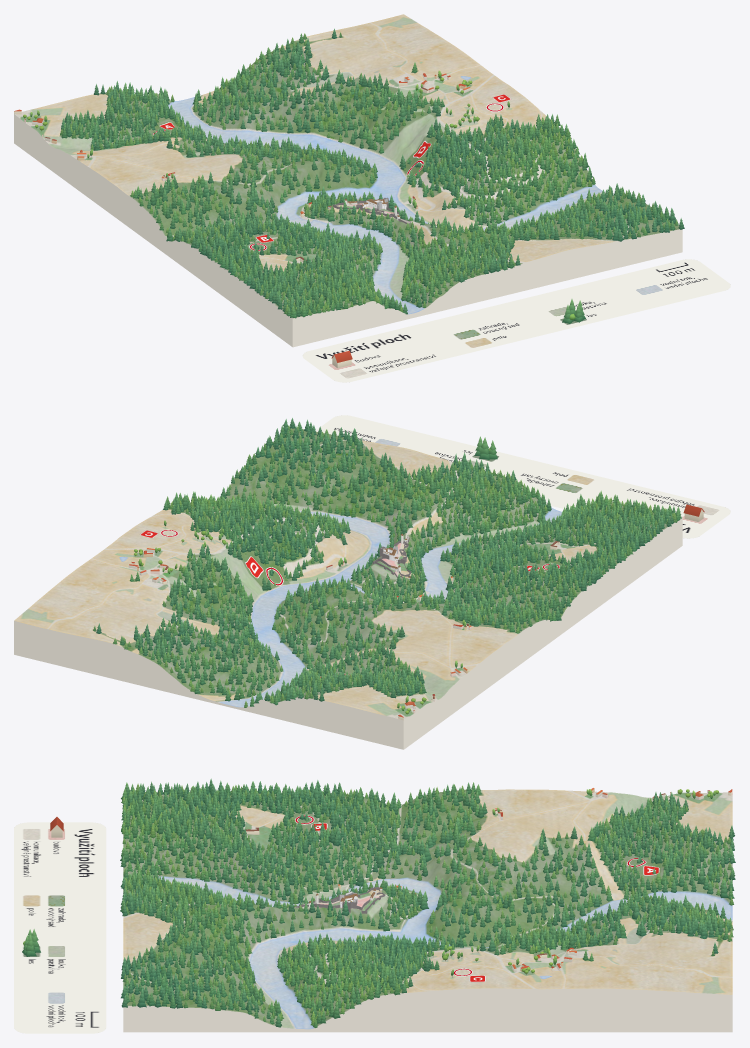
File: Zvikov_sada1_SMO5.glb
3 views of the same model, one above another, from view 1: azimuth 30°, elevation 25°; view 2: azimuth 150°, elevation 25°; view 3: azimuth 270°, elevation 25° (orthographic). The views are drawn at different scales.
Parts seen in each view (by area): view 1: DMR_1953, Zvikov_stromy_body_SMO5, legenda_panel, Zvikov_SMO5_budovy, Node0, legenda_objekty; view 2: DMR_1953, Zvikov_stromy_body_SMO5, legenda_panel, Zvikov_SMO5_budovy, Node0, legenda_objekty; view 3: DMR_1953, Zvikov_stromy_body_SMO5, legenda_panel, Node0, Zvikov_SMO5_budovy, legenda_objekty.
Part boxes in pixels (x1,y1,x2,y2): DMR_1953: [14, 14, 682, 347]; Zvikov_stromy_body_SMO5: [23, 28, 684, 318]; legenda_panel: [302, 259, 730, 382]; Zvikov_SMO5_budovy: [14, 73, 470, 262]; Node0: [327, 197, 410, 224]; legenda_objekty: [331, 299, 585, 368]; DMR_1953: [14, 428, 682, 749]; Zvikov_stromy_body_SMO5: [93, 418, 681, 714]; legenda_panel: [315, 415, 730, 538]; Zvikov_SMO5_budovy: [128, 541, 559, 720]; Node0: [372, 533, 410, 579]; legenda_objekty: [474, 436, 704, 521]; DMR_1953: [123, 789, 732, 1032]; Zvikov_stromy_body_SMO5: [120, 778, 735, 1027]; legenda_panel: [14, 822, 106, 1033]; Node0: [295, 887, 385, 913]; Zvikov_SMO5_budovy: [245, 788, 732, 971]; legenda_objekty: [22, 817, 63, 956].
Bounding box in the file's own units: 1491 × 180 × 2151.
10 materials, 6 textured.
